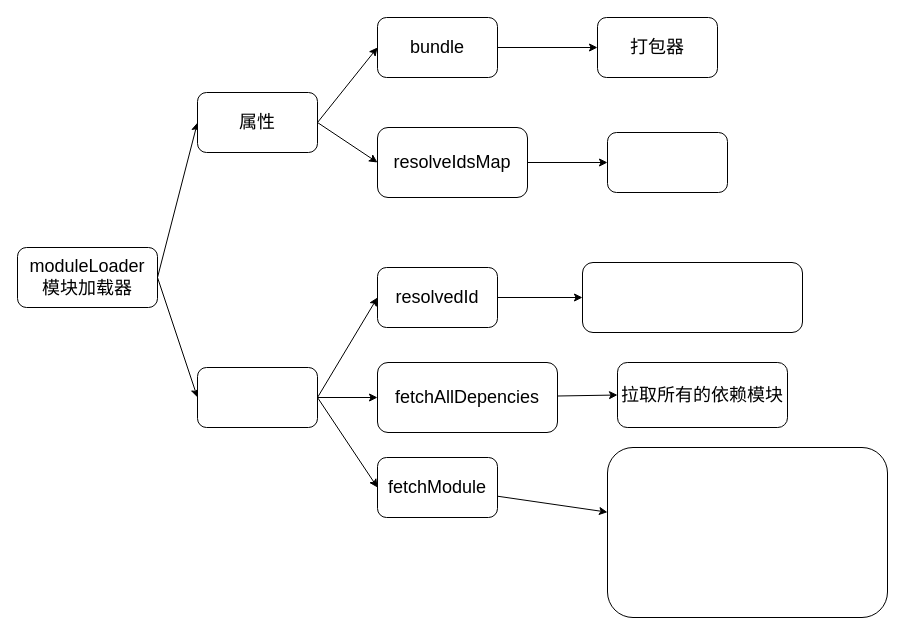
Some shapes in this 905 by 635 pixel diagram are drawn without their labels. Here are the shapes that lost their labels. From the top down, the centre of each, then its label:
the point at 667,162: 解析模块逻辑时的缓存
the point at 692,297: 解析模块逻辑，同时用resolveIdsMap进行缓存
the point at 257,397: 方法
the point at 747,532: 1.调用resolveId方法解析模块路径 2.初始化模块实例Module对象，解析模块AST 3.递归初始化模块的所有依赖路径
